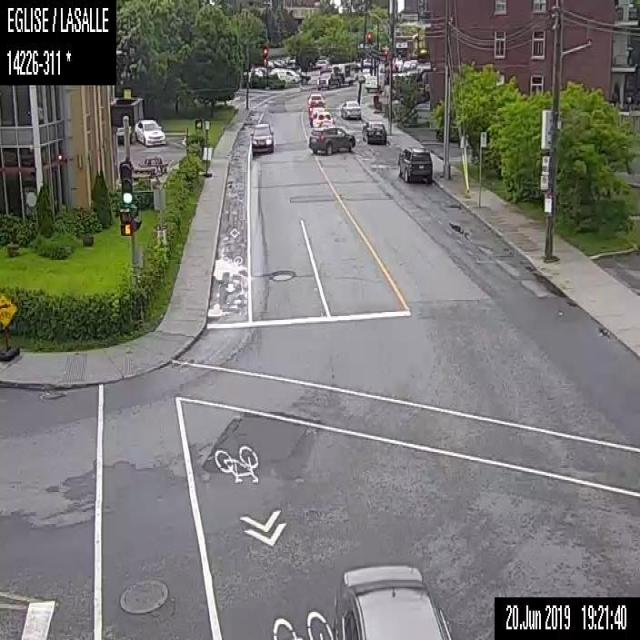vehicle: (333, 561, 451, 639), (397, 145, 432, 184), (307, 124, 354, 153), (135, 117, 166, 147), (250, 121, 274, 151), (331, 61, 359, 83), (361, 119, 385, 142), (316, 72, 342, 88), (340, 99, 361, 117), (310, 108, 332, 125), (279, 68, 299, 85), (306, 91, 324, 105)
